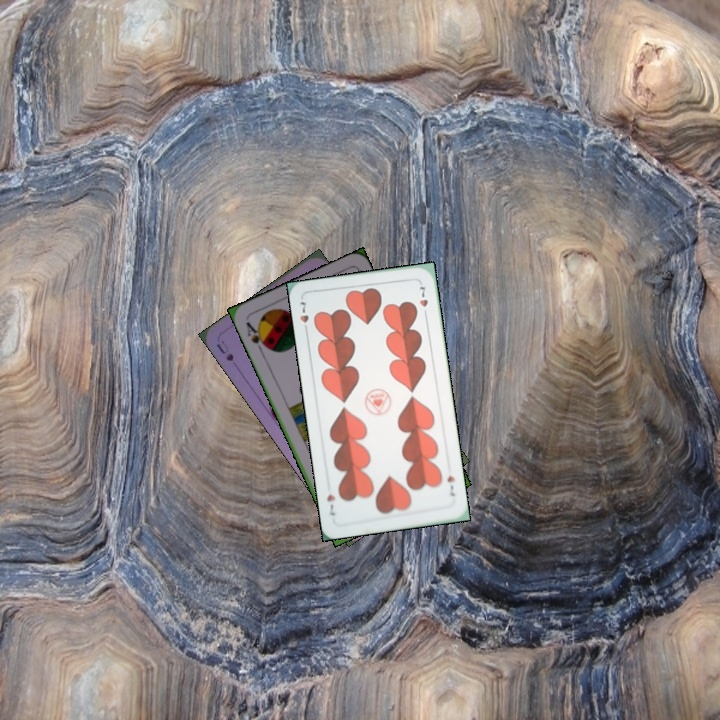H7: (296, 297, 311, 336), (443, 472, 457, 499)
SA: (242, 317, 271, 355)
SU: (213, 336, 236, 364)
